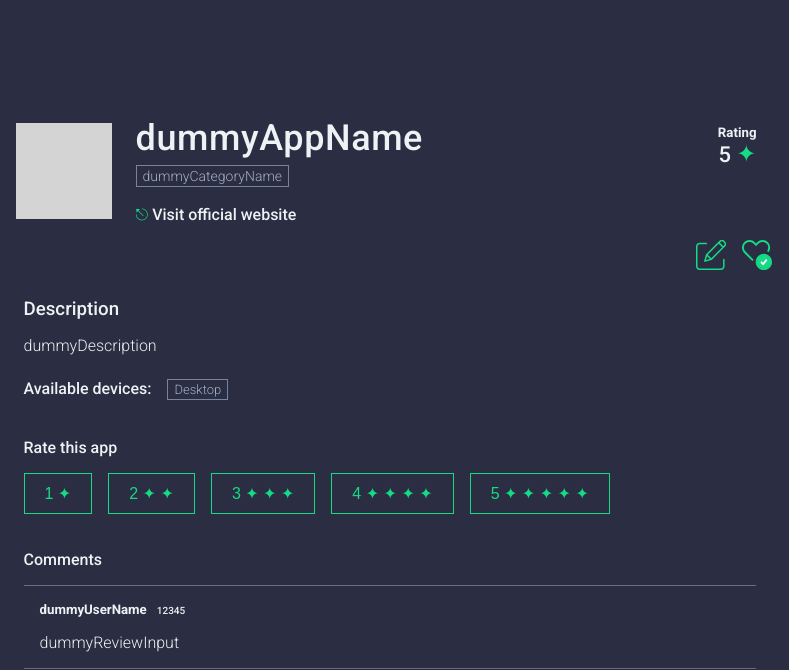
Scenario: user use features successfully › user removes app from wishlist when clicking on button
Click the button titled "added to wish list". click: (758, 257)
box: [742,240,772,274]
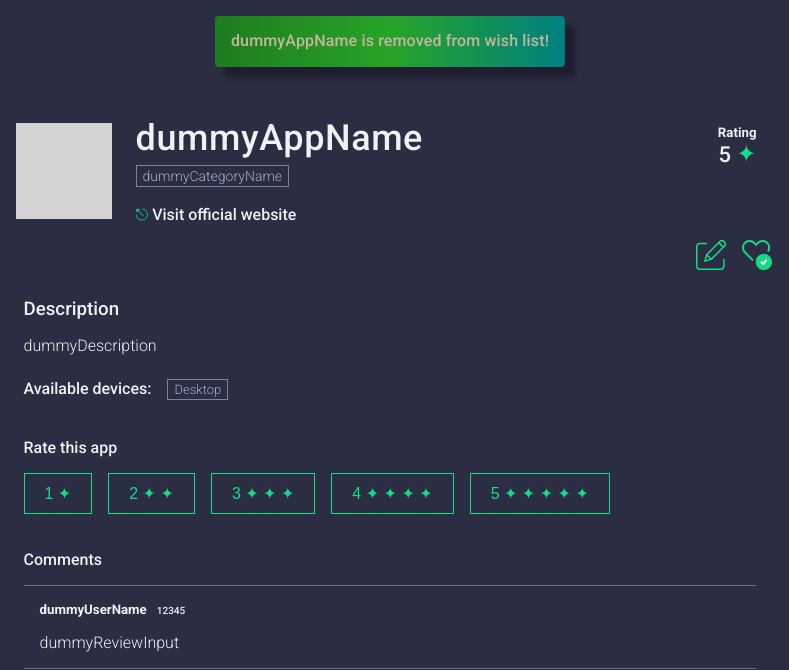
Expected: the text "dummyAppName is removed from wish list!" is shown, [231,31,549,50]
